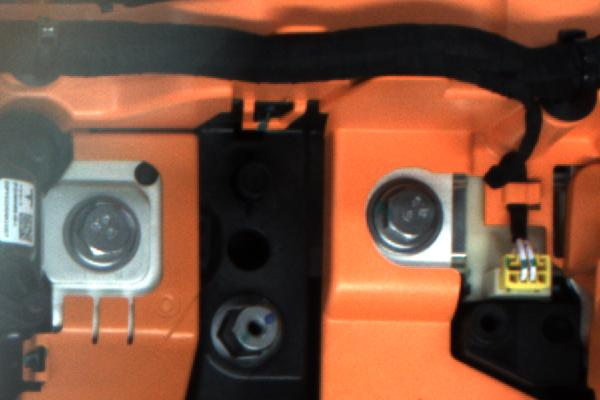nut_b: (360, 165, 452, 262), (54, 191, 149, 277)
